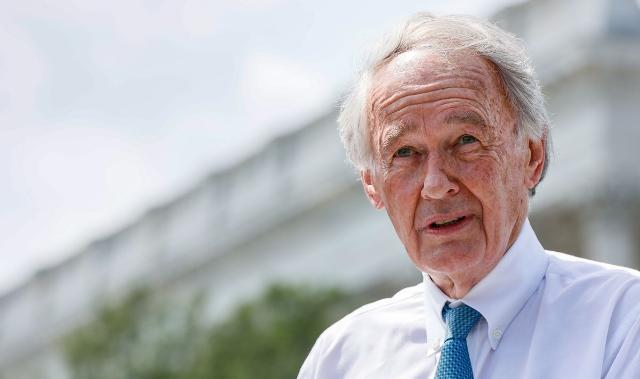crows_feet: (480, 138, 500, 164), (382, 156, 396, 176)
forehead: (412, 83, 442, 111), (448, 79, 476, 109), (379, 90, 408, 116)
frown_line: (420, 114, 432, 138)
gummy_smile: (457, 177, 483, 207), (407, 190, 423, 225)
sad_smile: (412, 232, 428, 261), (478, 223, 492, 252)
